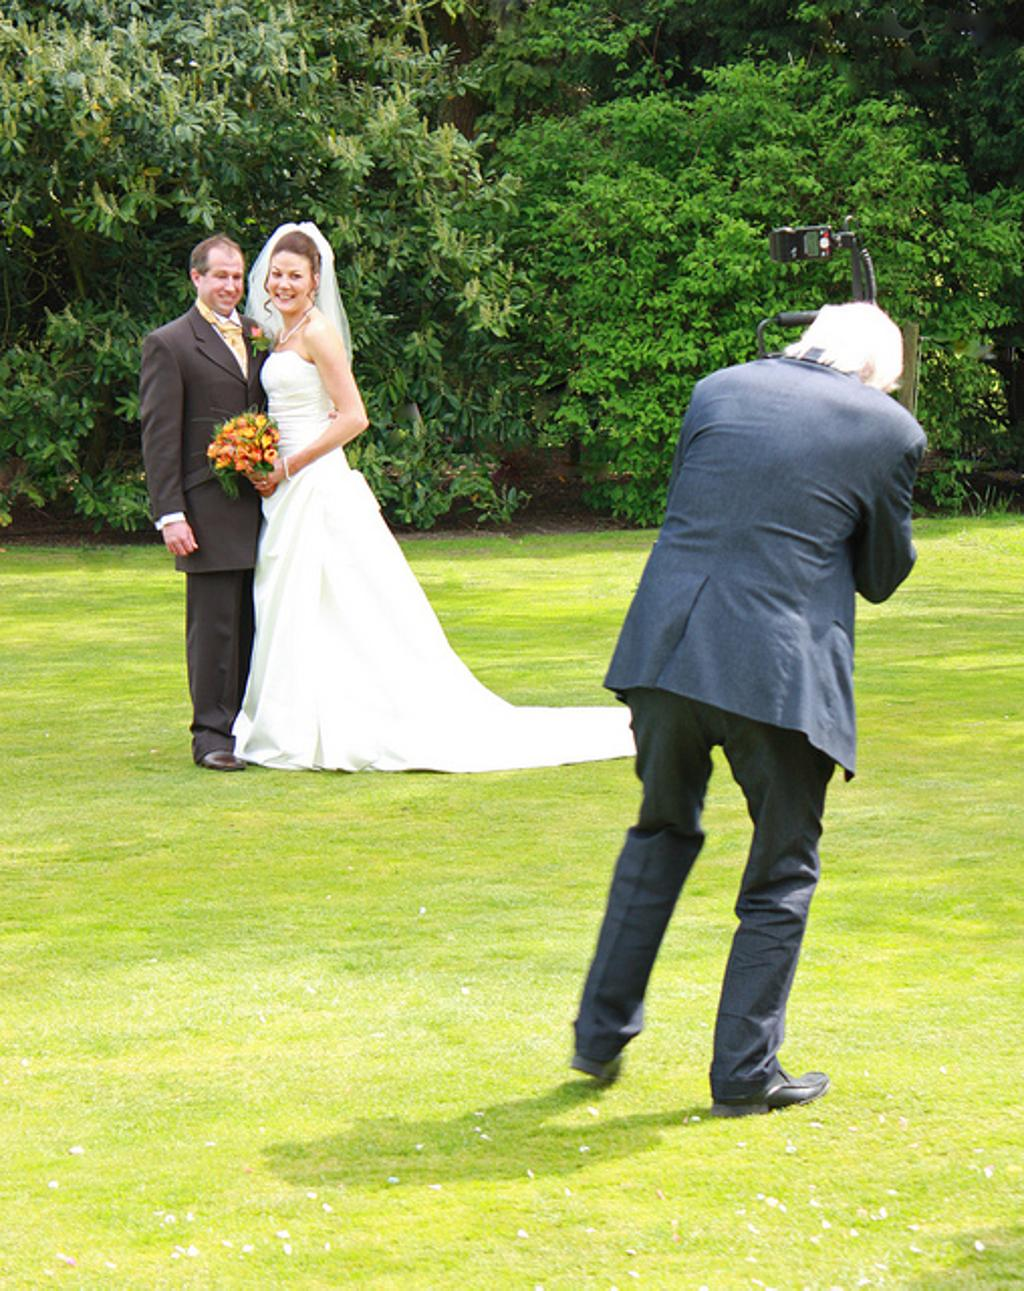face: (268, 250, 309, 312), (204, 247, 243, 311)
